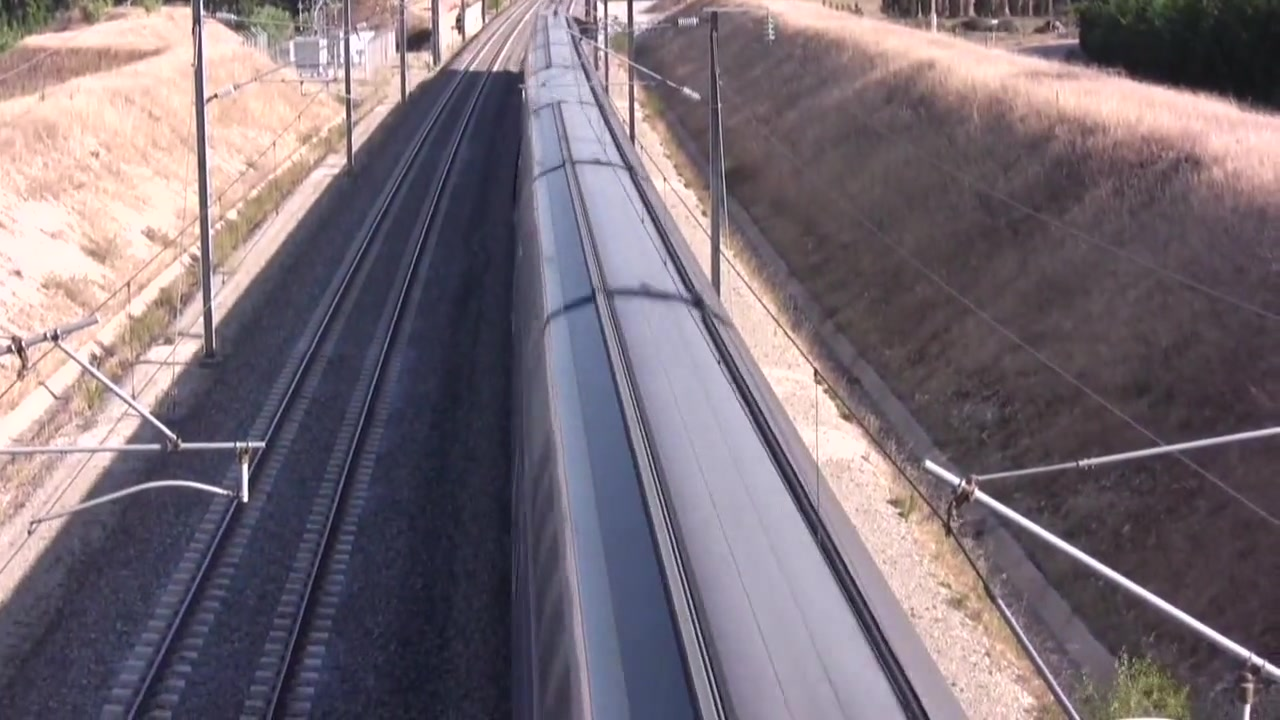train: (511, 4, 978, 720)
